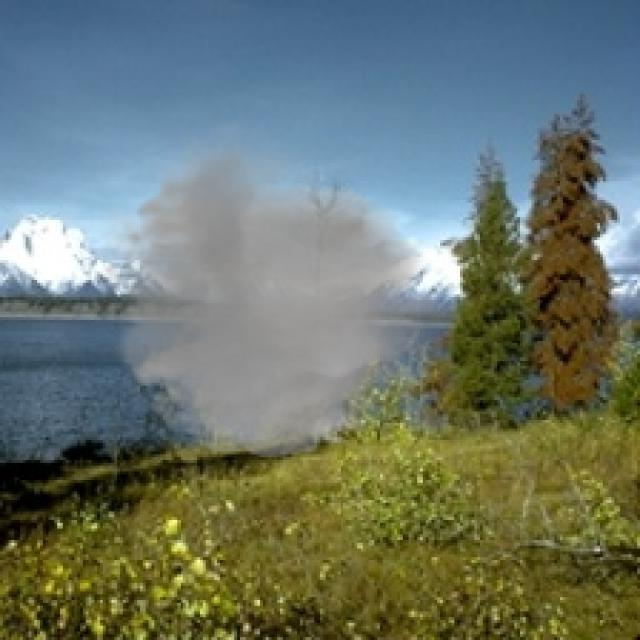Smoke: (86, 120, 468, 466)
